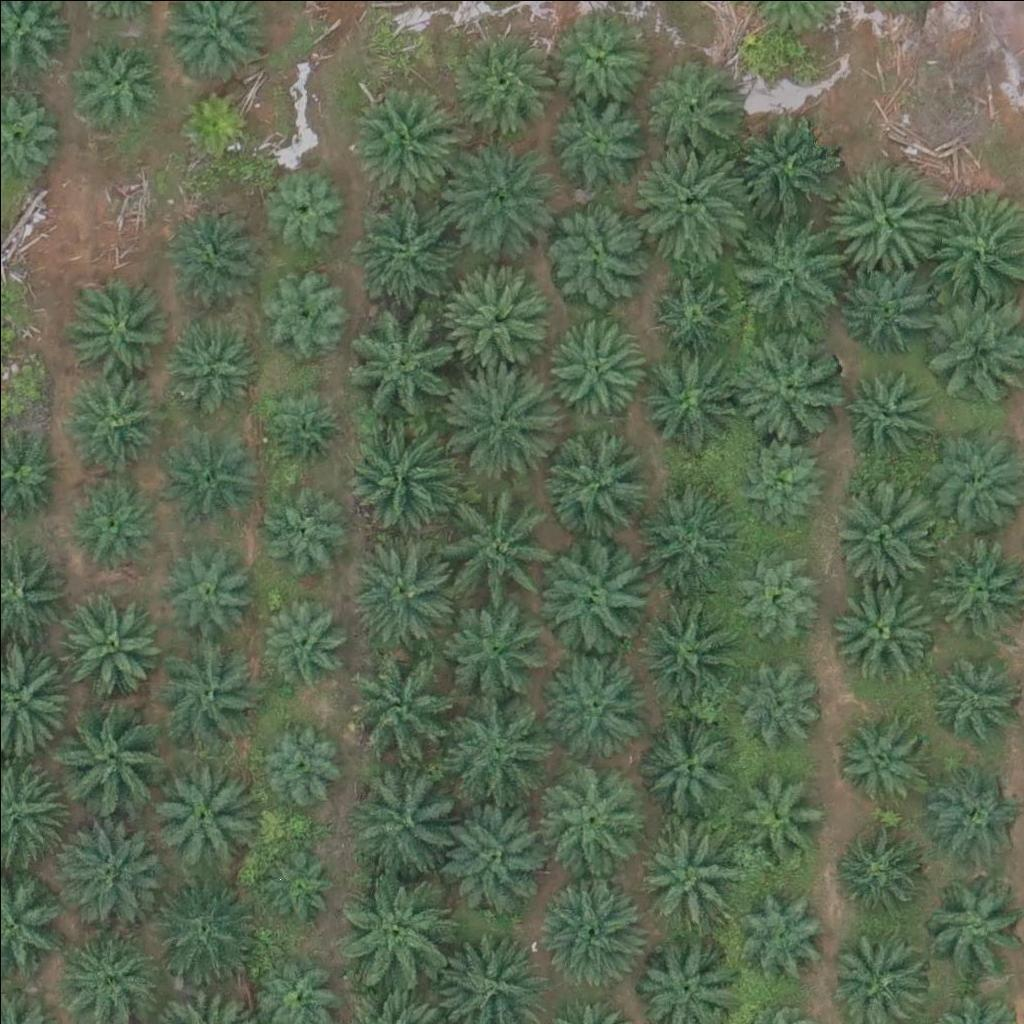Kelapa_Sawit: (439, 356, 552, 470), (341, 535, 454, 648), (345, 416, 458, 529), (352, 300, 465, 413), (545, 531, 658, 644), (737, 226, 850, 339), (724, 109, 837, 222), (830, 162, 943, 275), (440, 798, 553, 911), (534, 872, 647, 985), (628, 810, 741, 923), (354, 184, 466, 298), (350, 80, 462, 194), (448, 23, 560, 137), (735, 327, 847, 441), (45, 585, 157, 699), (340, 873, 452, 987), (631, 595, 743, 709), (440, 135, 552, 248), (440, 262, 552, 375), (433, 487, 545, 600), (548, 426, 660, 539), (630, 478, 742, 591), (633, 338, 745, 451), (633, 150, 745, 263), (822, 475, 934, 588), (54, 707, 166, 820), (58, 816, 170, 929), (145, 875, 257, 988), (144, 756, 256, 869), (155, 635, 267, 748), (349, 764, 461, 877), (344, 654, 456, 767), (442, 599, 554, 712), (443, 690, 555, 803), (536, 643, 648, 756), (827, 574, 939, 687), (62, 366, 162, 467), (66, 274, 166, 375), (65, 34, 165, 135), (161, 318, 261, 419), (160, 209, 260, 310), (546, 312, 646, 413), (546, 200, 646, 301), (544, 91, 644, 192), (649, 52, 749, 153), (836, 255, 936, 356), (832, 368, 932, 469), (540, 760, 640, 861), (644, 716, 744, 817), (834, 708, 934, 809), (922, 639, 1022, 740), (154, 545, 254, 645), (159, 416, 259, 516), (544, 6, 644, 106), (169, 81, 257, 169), (68, 483, 156, 571), (260, 165, 348, 253), (256, 273, 344, 361), (653, 267, 741, 355), (736, 437, 824, 525), (733, 772, 821, 860), (728, 652, 816, 740), (840, 827, 928, 915), (259, 381, 346, 469), (259, 486, 346, 574), (256, 598, 343, 686), (256, 722, 343, 810), (736, 882, 823, 970), (734, 547, 821, 635), (259, 844, 334, 920)
